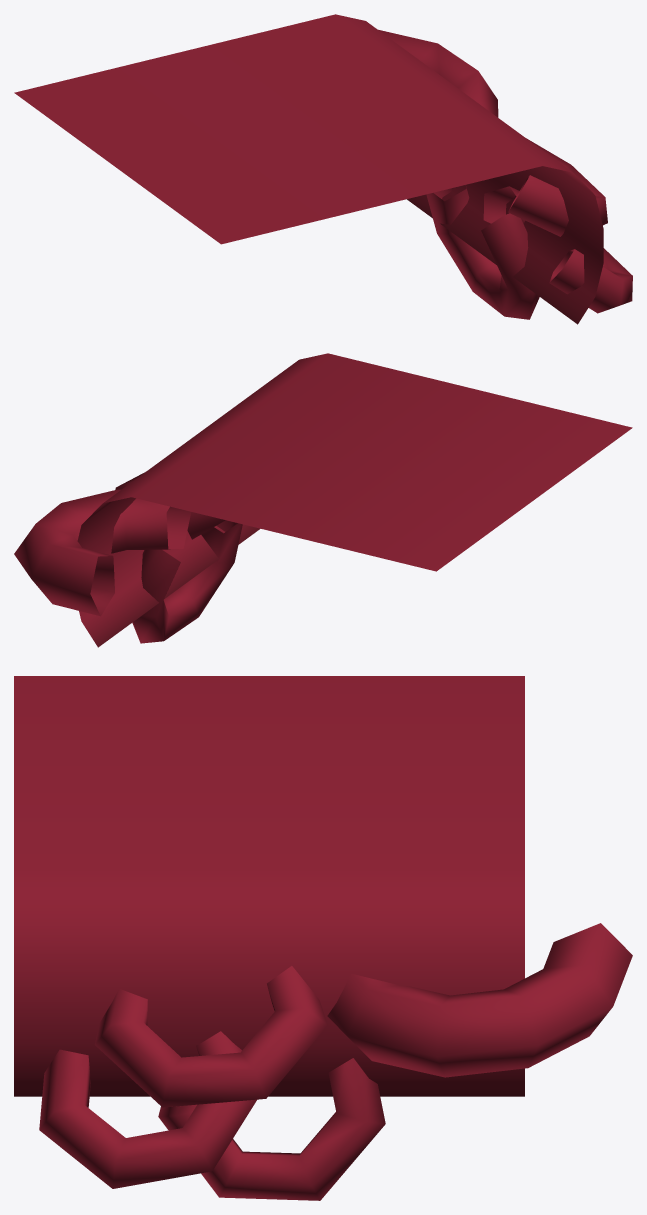
Rendered from Surface_SideUp01.fbx.
3 renders of one model, top to bottom at view 1: azimuth 30°, elevation 25°; view 2: azimuth 150°, elevation 25°; view 3: azimuth 270°, elevation 25°, orthographic. The views are drawn at different scales.
Parts seen in each view (by area): view 1: Surface_SideUp01; view 2: Surface_SideUp01; view 3: Surface_SideUp01.
Part boxes in pixels (left/top/right/bottom): Surface_SideUp01: left=14, top=14, right=632, bottom=324; Surface_SideUp01: left=14, top=353, right=632, bottom=647; Surface_SideUp01: left=14, top=676, right=632, bottom=1200.
Size of the model in its own units: 2524 by 1240 by 2423.
